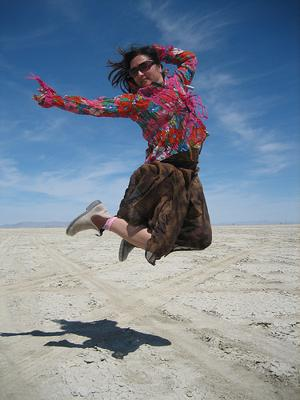person: (34, 38, 214, 264)
